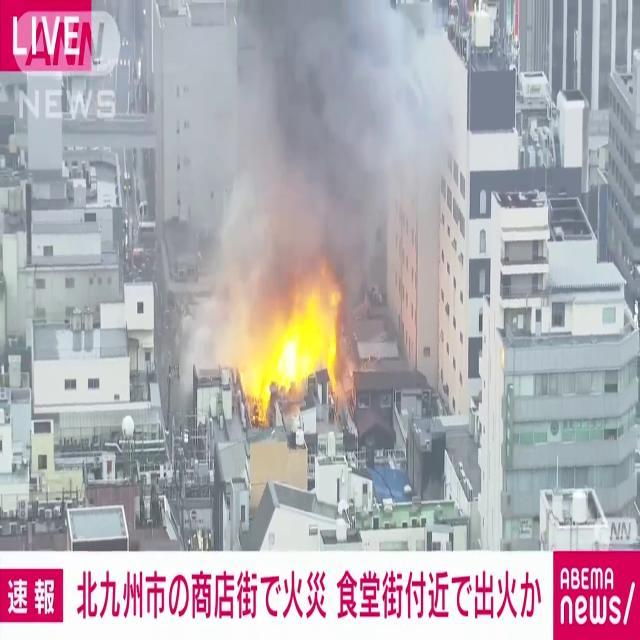Fire: (241, 268, 350, 411)
Smoke: (162, 0, 444, 314)
